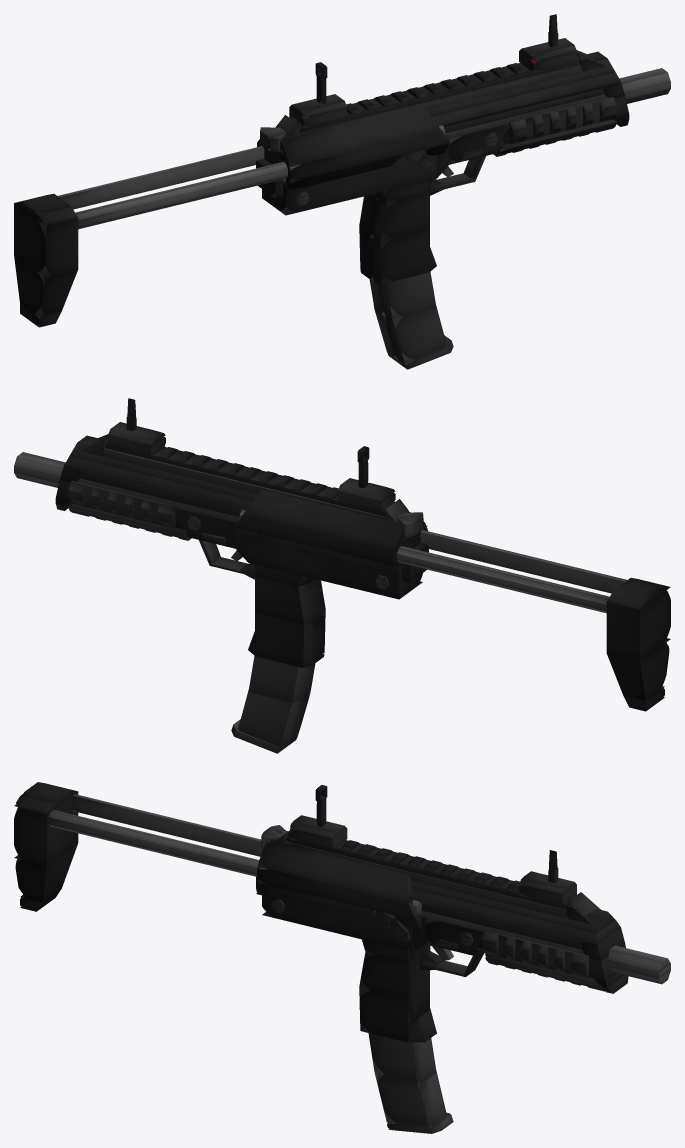
The picture shows the model from 3 angles, top to bottom: view 1: azimuth 30°, elevation 25°; view 2: azimuth 150°, elevation 25°; view 3: azimuth 330°, elevation 25°; orthographic projection.
Parts seen in each view (by area): view 1: gunModel54, gunModel8, gunModel62, gunModel63, gunModel60, gunModel53, gunModel13, gunModel64, gunModel0, gunModel15, ammoModel0, gunModel16 (+22 smaller); view 2: gunModel55, gunModel8, gunModel59, gunModel63, gunModel61, gunModel56, gunModel13, gunModel0, gunModel64, gunModel15, ammoModel0, gunModel16 (+22 smaller); view 3: gunModel54, gunModel62, gunModel8, gunModel60, gunModel63, gunModel53, gunModel13, gunModel15, gunModel0, gunModel14, gunModel16, ammoModel0 (+25 smaller).
Boxes of the visible parts, x1,y1,x2,y2 form: gunModel54: [280, 106, 441, 166]; gunModel8: [262, 148, 436, 215]; gunModel62: [58, 146, 264, 209]; gunModel63: [14, 203, 78, 277]; gunModel60: [76, 125, 445, 229]; gunModel53: [286, 130, 449, 182]; gunModel13: [262, 72, 620, 162]; gunModel64: [14, 255, 77, 316]; gunModel0: [369, 229, 429, 283]; gunModel15: [299, 60, 579, 132]; ammoModel0: [382, 307, 446, 363]; gunModel16: [300, 64, 580, 135]; gunModel55: [243, 490, 403, 550]; gunModel8: [248, 534, 422, 599]; gunModel59: [420, 530, 626, 593]; gunModel63: [606, 584, 670, 661]; gunModel61: [239, 509, 607, 613]; gunModel56: [235, 514, 398, 566]; gunModel13: [64, 456, 422, 547]; gunModel0: [255, 613, 324, 667]; gunModel64: [607, 642, 669, 700]; gunModel15: [105, 444, 385, 516]; ammoModel0: [238, 692, 292, 747]; gunModel16: [104, 448, 385, 519]; gunModel54: [257, 839, 412, 903]; gunModel62: [72, 794, 262, 856]; gunModel8: [262, 884, 415, 951]; gunModel60: [48, 811, 418, 913]; gunModel63: [14, 791, 78, 865]; gunModel53: [257, 863, 420, 920]; gunModel13: [411, 888, 620, 944]; gunModel15: [286, 837, 572, 909]; gunModel0: [359, 987, 409, 1042]; gunModel14: [267, 839, 615, 933]; gunModel16: [285, 841, 572, 918]; ammoModel0: [377, 1069, 429, 1125].
Size of the model in its own units: 15.35 by 7.31 by 1.4.
